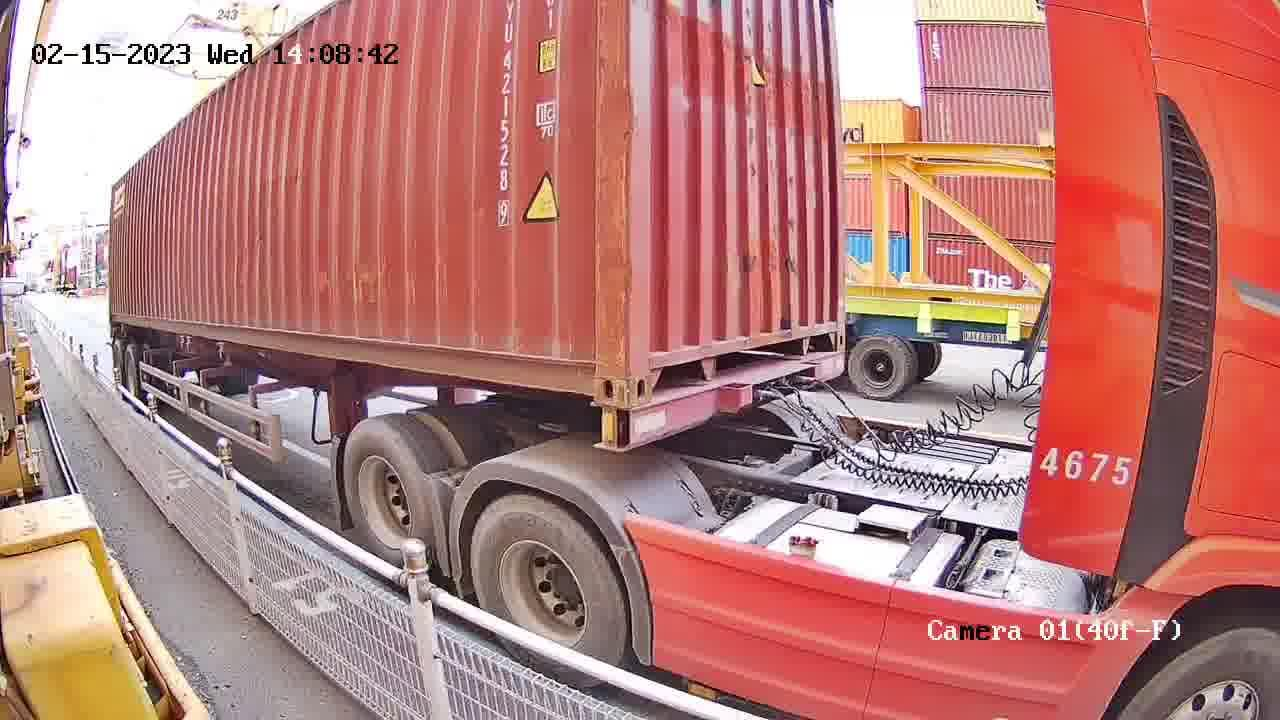Chassis: (627, 352, 845, 451)
Cone: (593, 406, 627, 453)
Hole_L: (628, 339, 675, 410)
Hole_R: (570, 333, 630, 408), (809, 299, 848, 359)
Tire: (467, 496, 630, 665), (343, 423, 436, 561)
